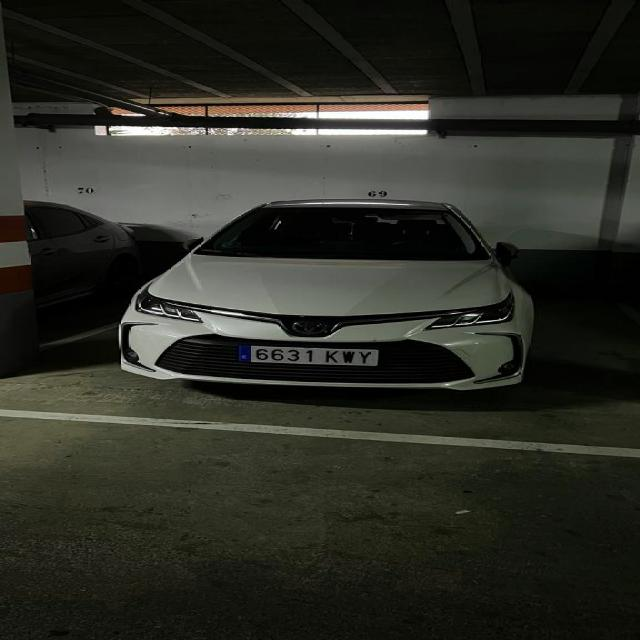License-Plate: (237, 343, 379, 369)
